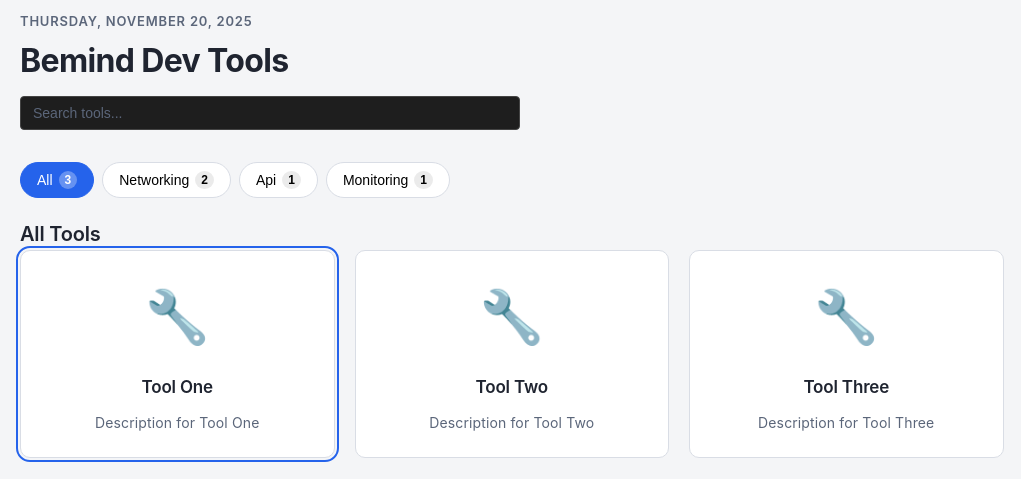
Test: HomePage Component › Category Filter Integration › should show all tools when 'All' category is selected
The width and height of the screenshot is (1021, 479).
// First filter by a category
Click the button "Networking 2" at (167, 180), box [102, 162, 231, 198]
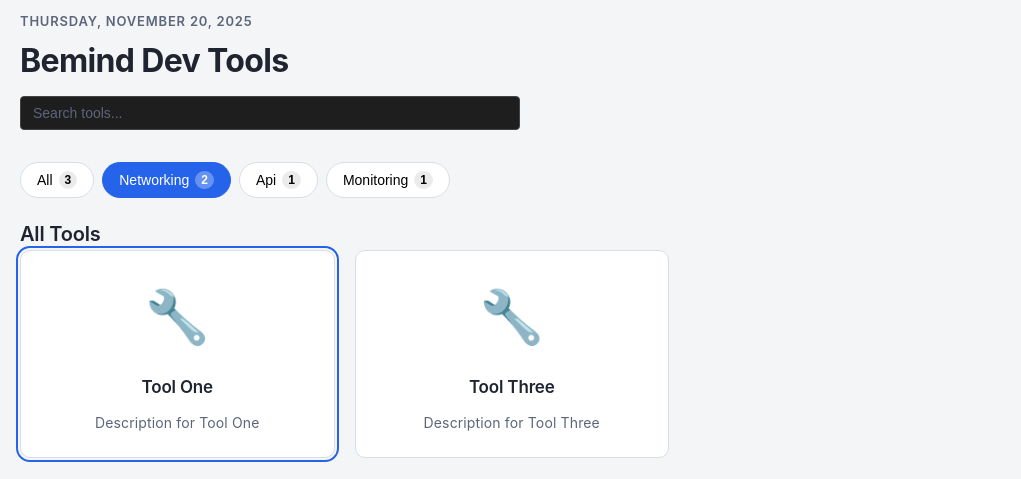
// Then click All
Click the button "All 3" at (57, 180), box [20, 162, 94, 198]
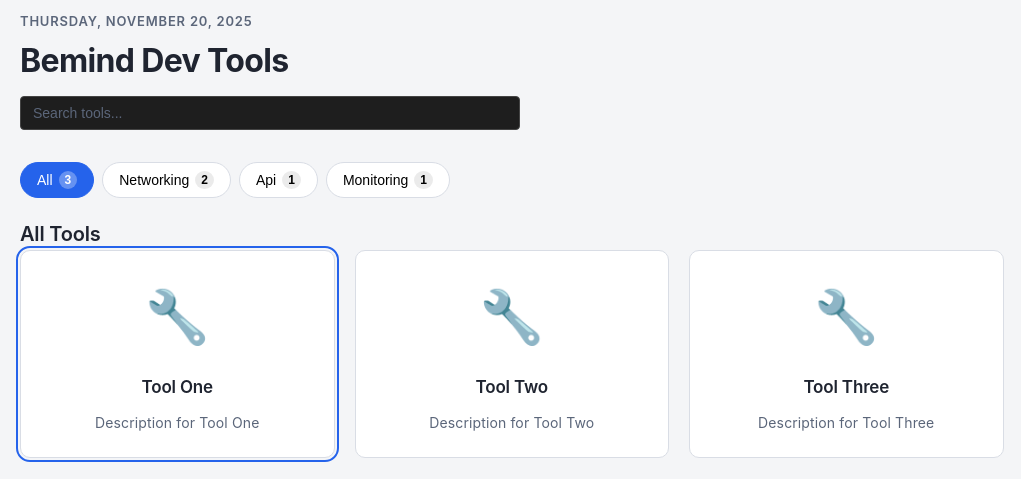
Check: the heading "Tool One" is shown, box [142, 376, 213, 398]
Check: the heading "Tool Two" is shown, box [476, 376, 548, 398]
